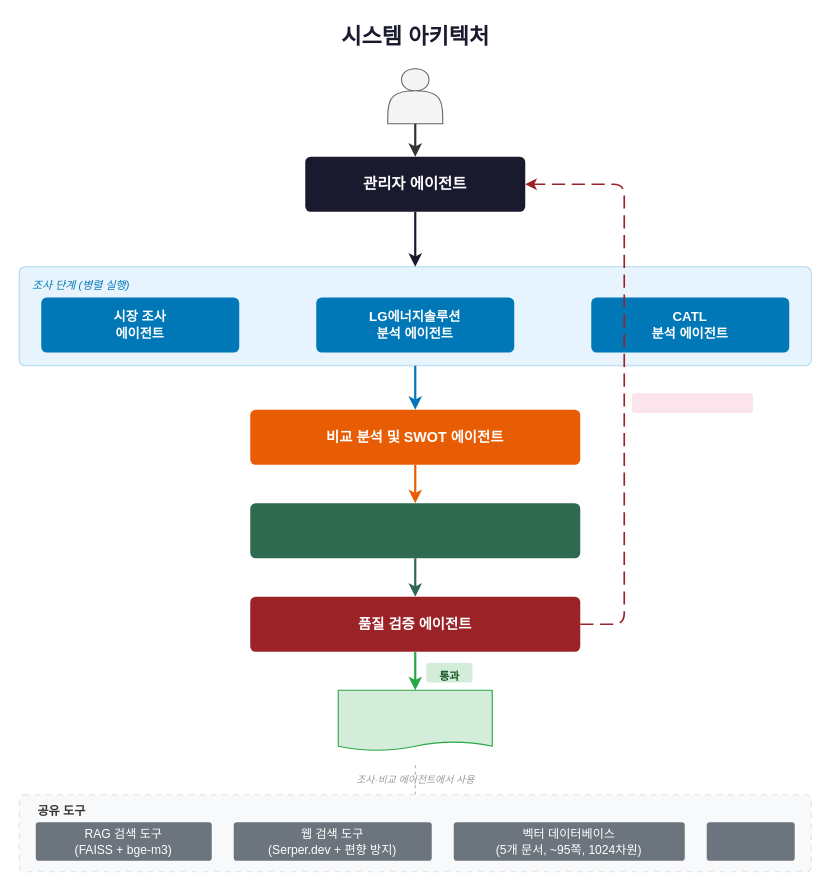
This 831x891 diagram has some shape labels left out. Each missing label, with the box of its shape:
대규모 언어 모델 (GPT-4o-mini): (706, 822, 794, 860)
보고서 작성 에이전트: (250, 503, 580, 558)
사용자: (387, 68, 443, 124)
재작성 (최대 2회): (631, 393, 752, 413)
최종 보고서 (PDF): (337, 689, 492, 751)
